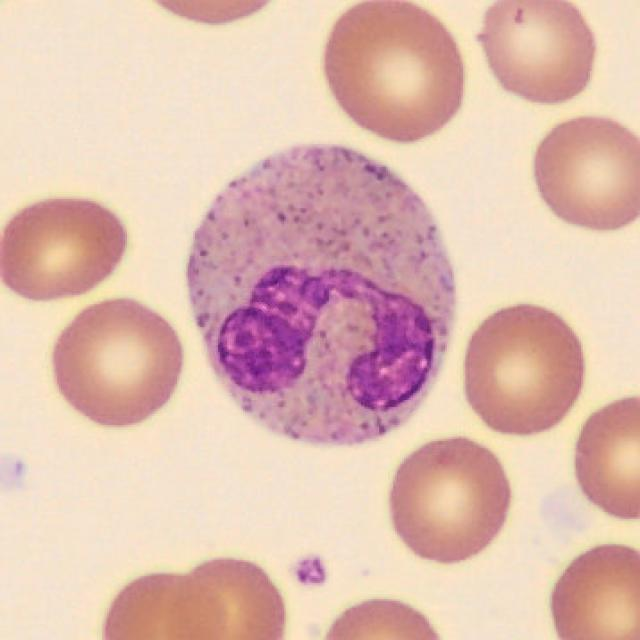Neutrofilo segmentado: (186, 146, 456, 448)
